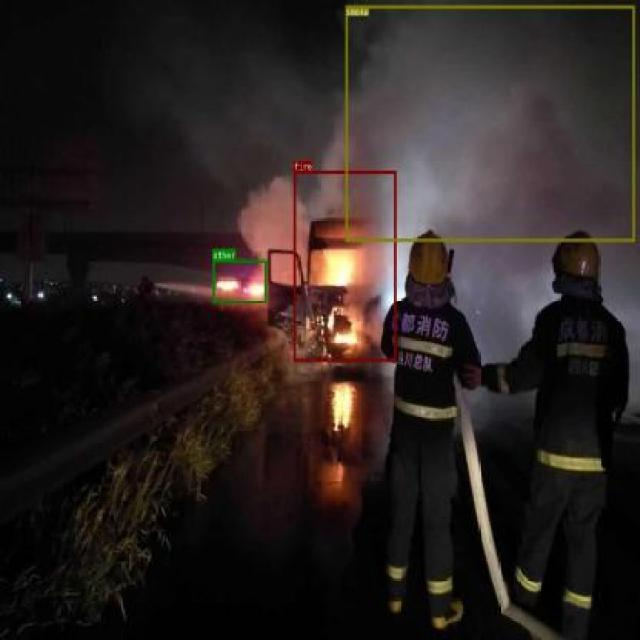Fire: (293, 170, 396, 361)
Smoke: (346, 5, 634, 241)
